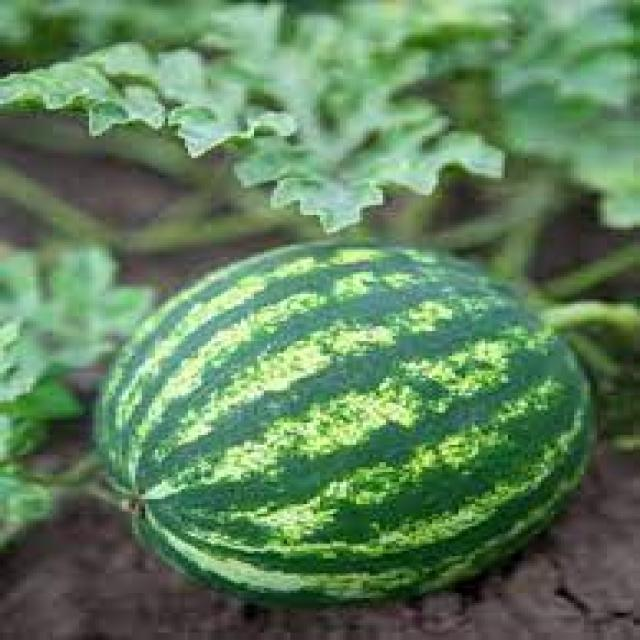watermelon: (92, 232, 604, 600)
